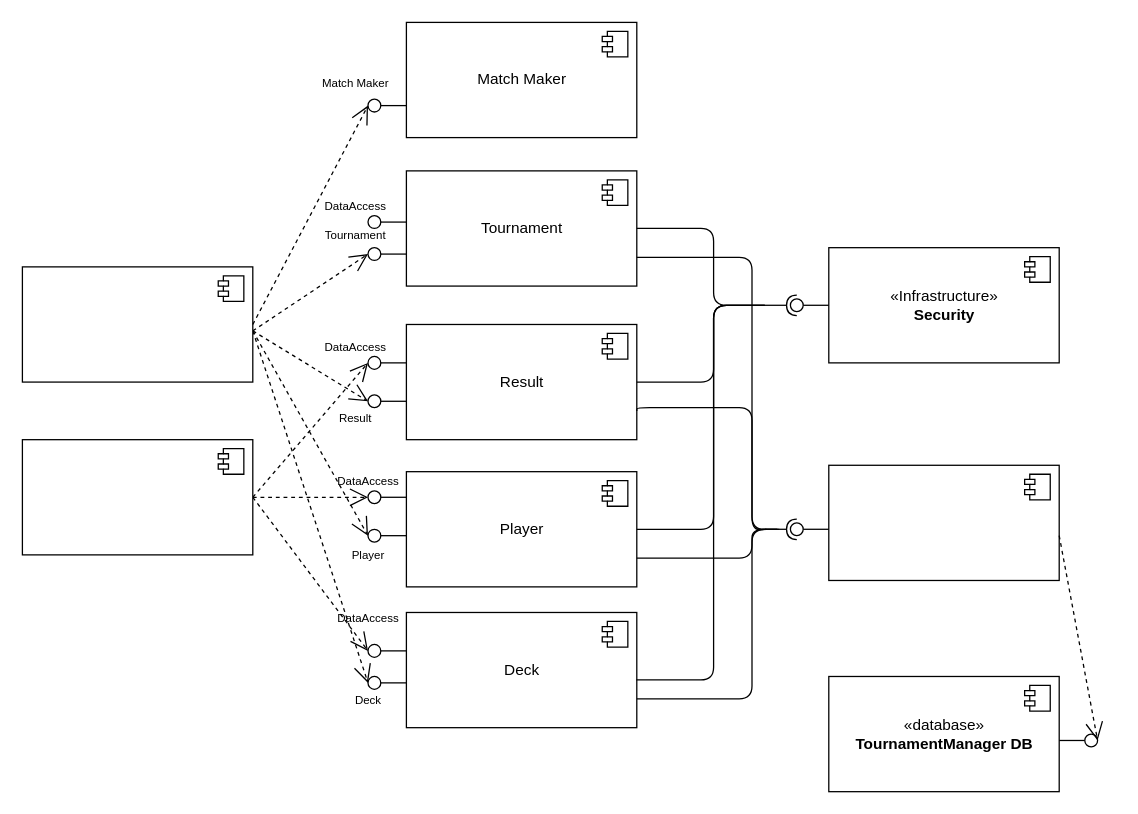
This 1138x814 diagram has some shape labels left out. Each missing label, with the box of its shape:
«Infrastructure» Persistence: (828, 464, 1059, 580)
«UI» Player/Public View: (21, 438, 253, 555)
«UI» Tournament Manager: (21, 266, 253, 382)
